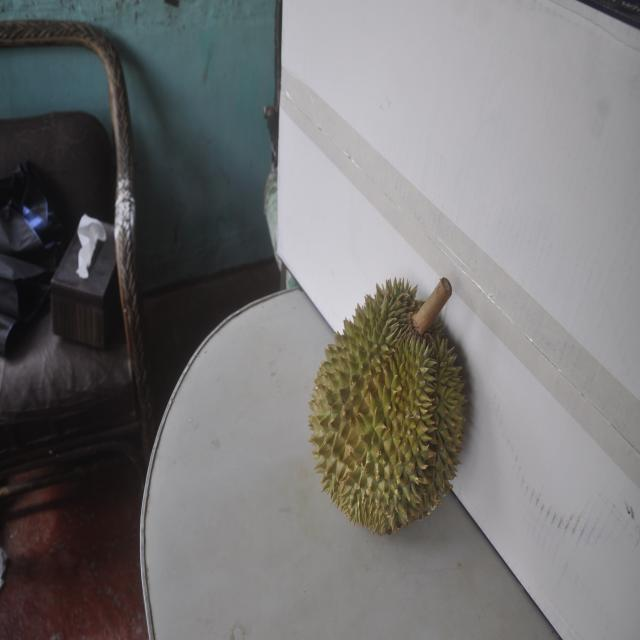mature: (312, 273, 468, 534)
